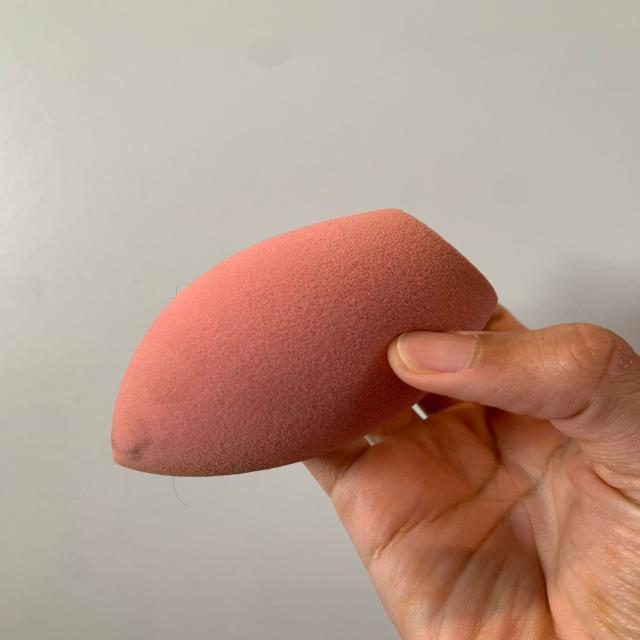beauty blender: (90, 199, 522, 493)
